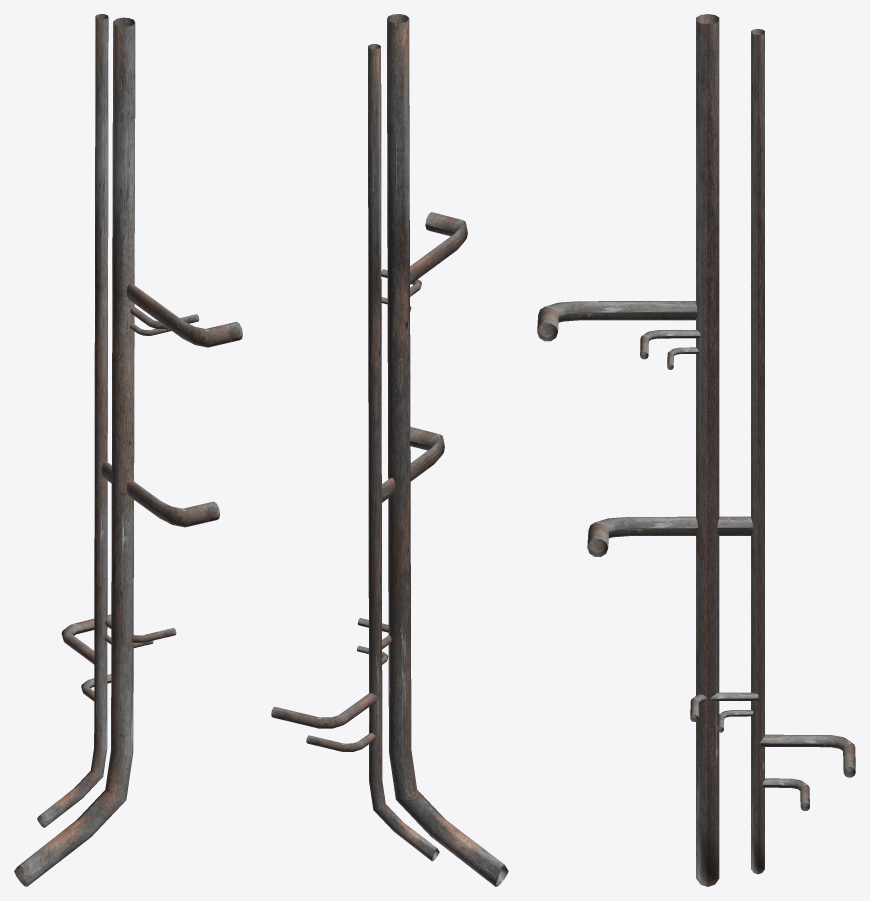
Rendered from pipe_03.FBX.
3 renders of one model, left to right at view 1: azimuth 30°, elevation 25°; view 2: azimuth 150°, elevation 25°; view 3: azimuth 270°, elevation 25°, orthographic. The views are drawn at different scales.
Parts seen in each view (by area): view 1: pipe_03; view 2: pipe_03; view 3: pipe_03.
Boxes of the visible parts, x1,y1,x2,y2 form: pipe_03: [14, 14, 242, 886]; pipe_03: [271, 14, 508, 886]; pipe_03: [537, 14, 855, 886].
Bounding box in the file's own units: 23.31 × 114 × 35.79.
